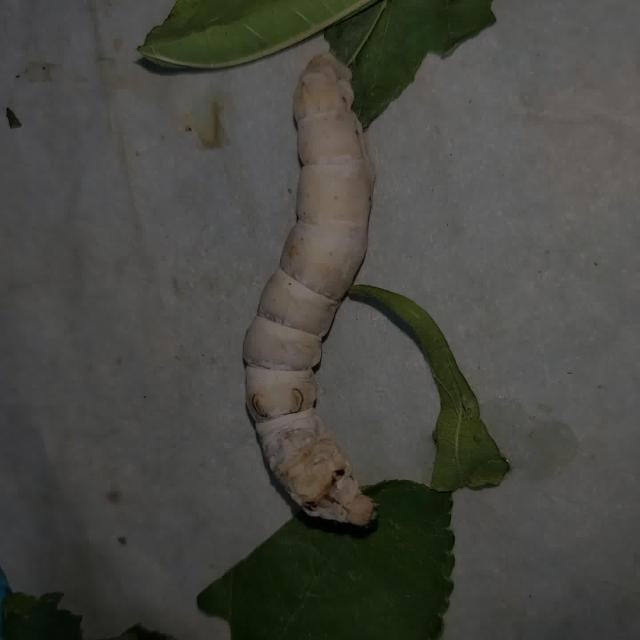Grasserie: (223, 38, 404, 534)
